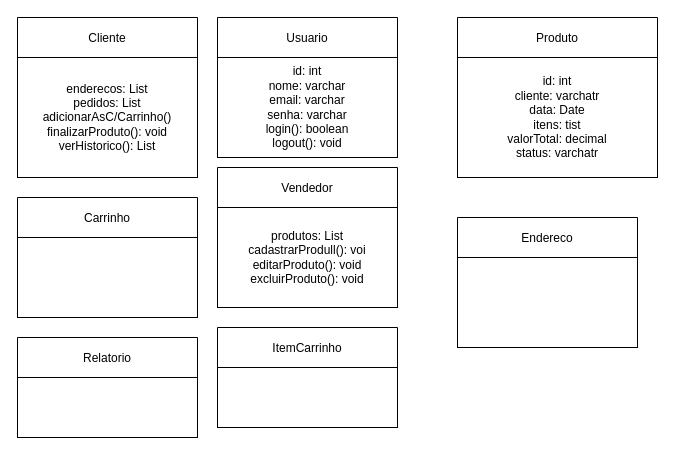
Image size: 675x455. Some labels were removed from this diagram. The centre of each missing label's shape, as x and y in pixels:
"itens: List produto: Produto quantidade: int calcularTotal(): decimal" belongs at [107,277].
"produtoaProduto quantidade: int" belongs at [307,397].
"ruq: varchar cidade: varchatr estado: varchtr cep: varchar" belongs at [547,302].
"vendasTotais: decimal usuariosAlivos: int" belongs at [107,407].
